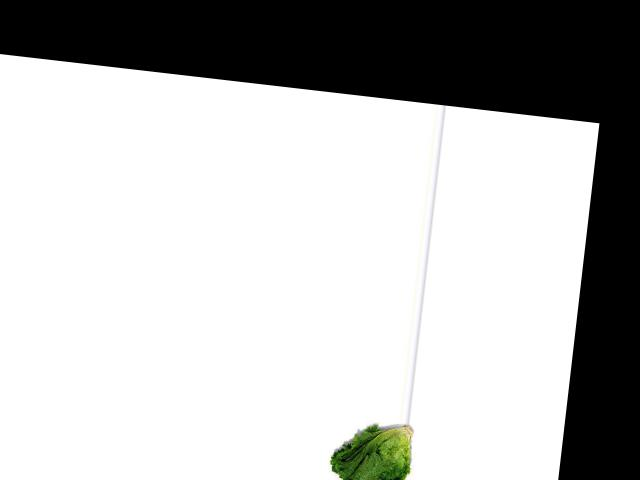lettuce: (318, 413, 421, 480)
